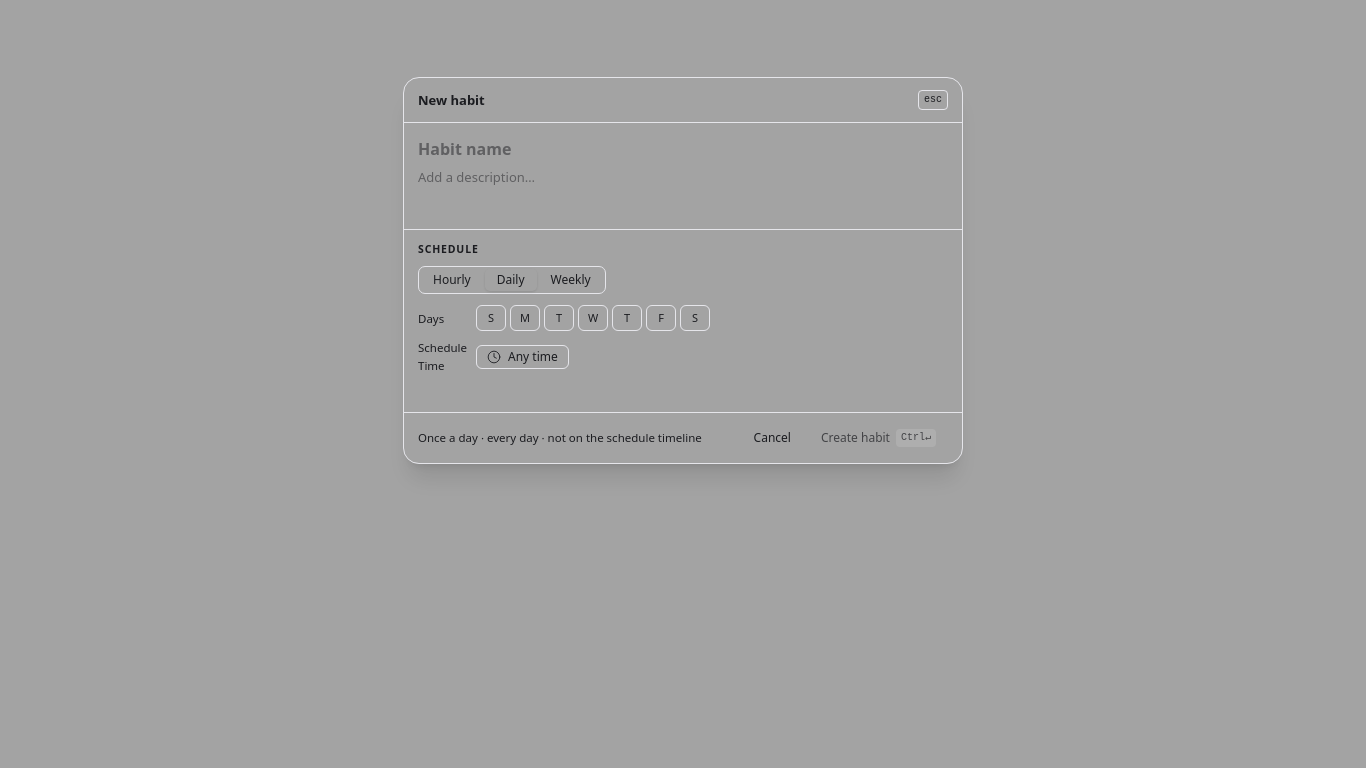
Scenario: HabitModal — create › warns that a restricted weekly habit can only be checked in on those days
The width and height of the screenshot is (1366, 768).
Click the button "Weekly".
click(571, 280)  # box [539,269,603,291]
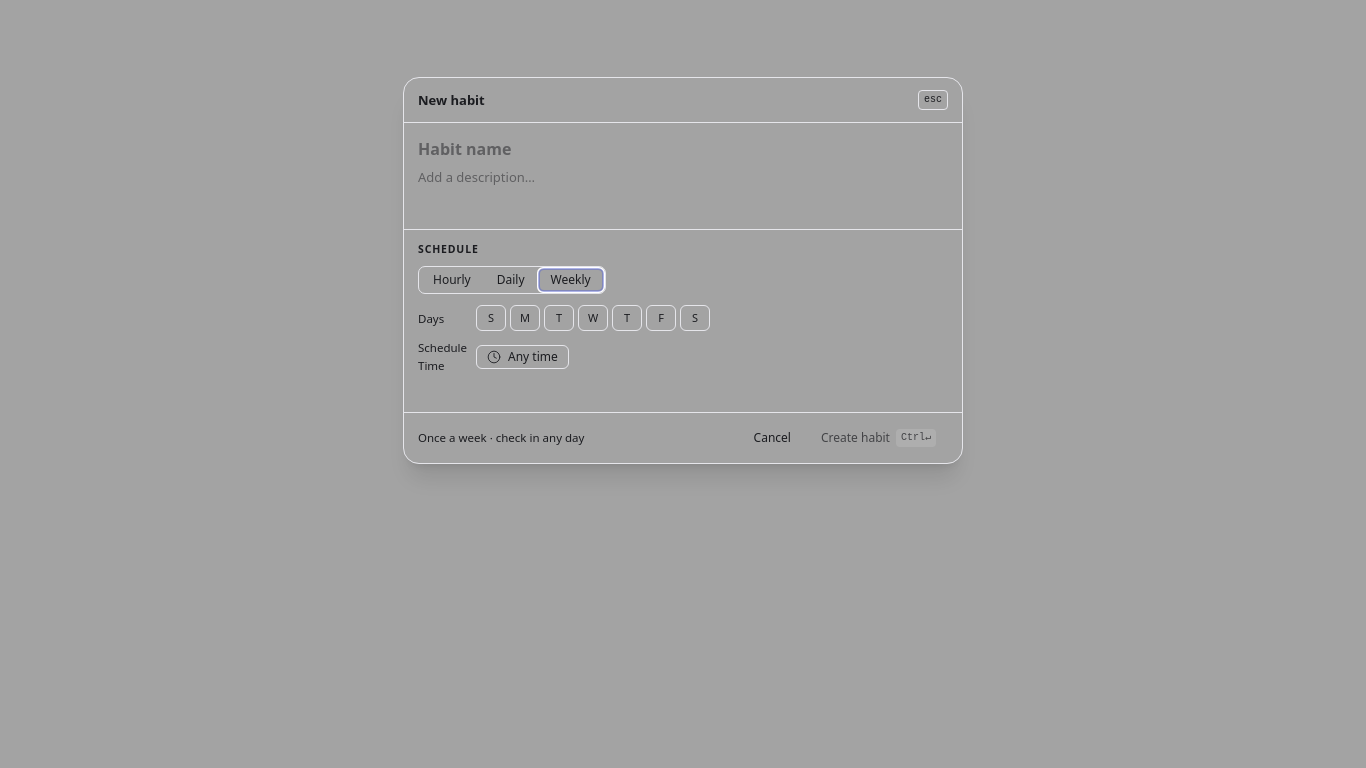
Click the 1st button "S".
click(491, 318)  # box [476,305,506,331]
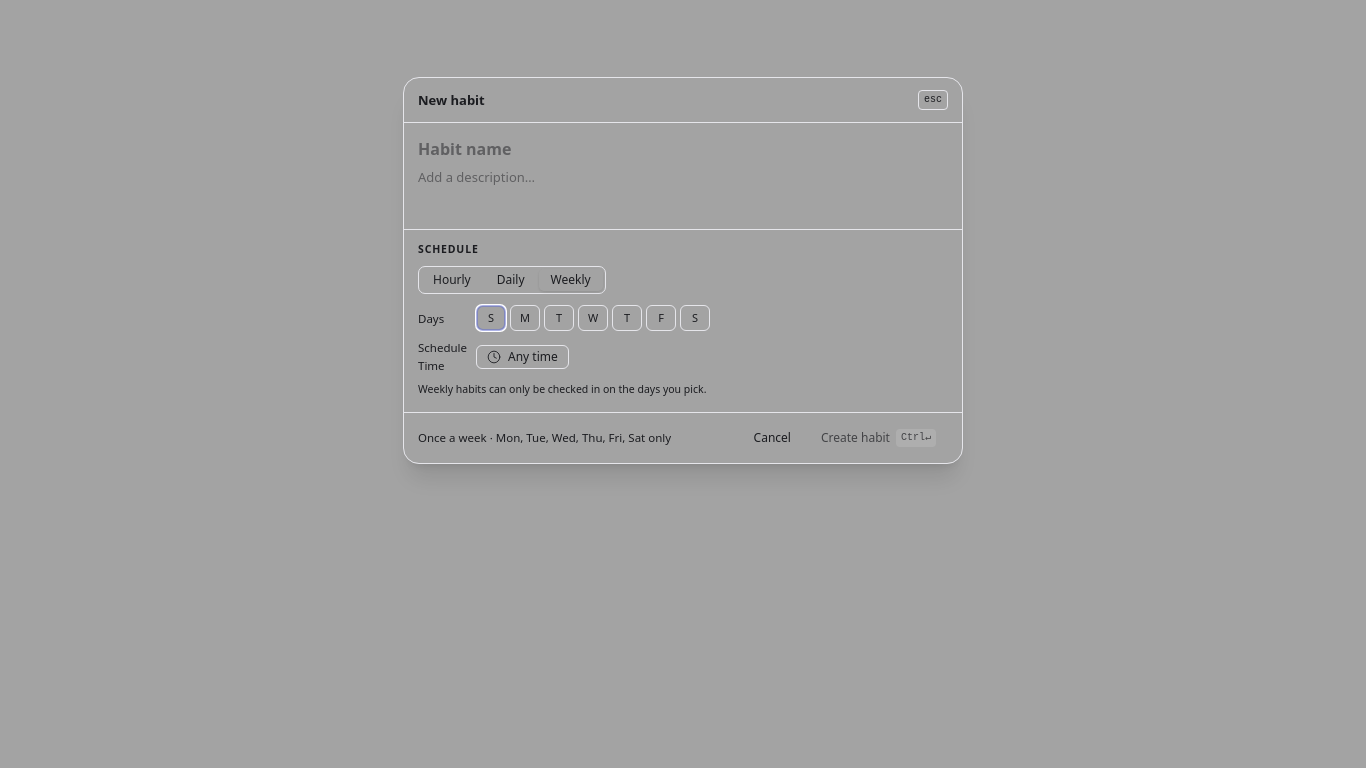
Check: the text "Weekly habits can only be checked in on the days you pick." is shown, box [418,382,706,396]
